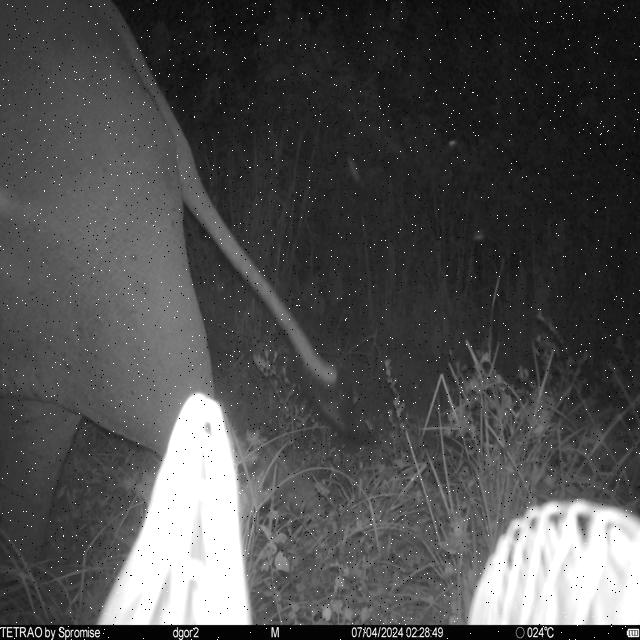elephant: (1, 0, 377, 572)
